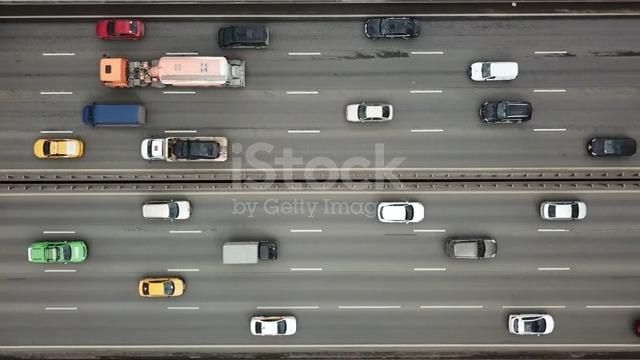Cars: (28, 240, 88, 264), (364, 17, 421, 40), (218, 25, 270, 50), (479, 100, 533, 124), (96, 18, 145, 41), (468, 61, 519, 82), (346, 102, 394, 124), (250, 315, 297, 337), (139, 277, 186, 298)
